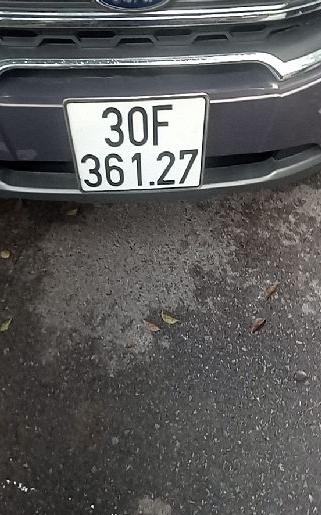Plate-iWeP: (77, 99, 204, 194)
